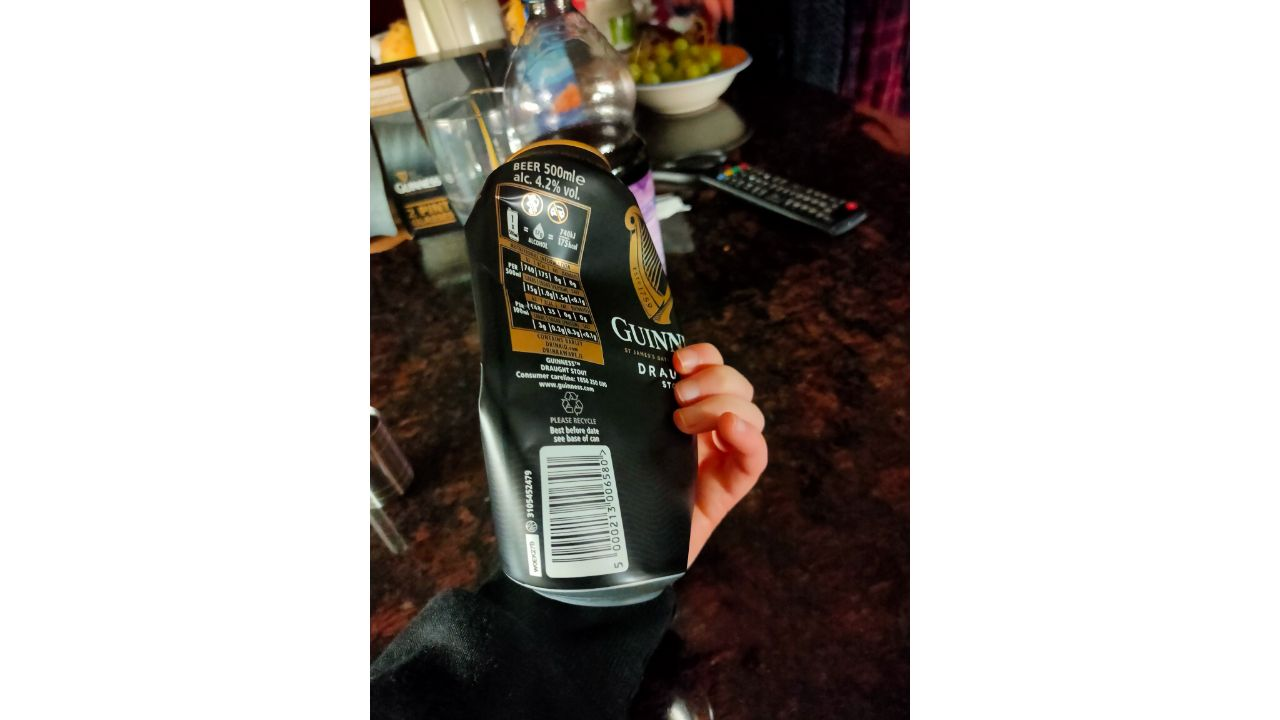Can: (465, 138, 702, 627)
